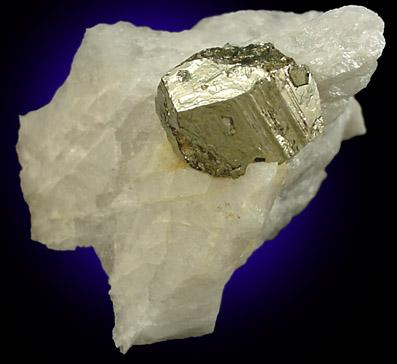pyrite: (15, 5, 386, 356), (156, 42, 325, 178)
